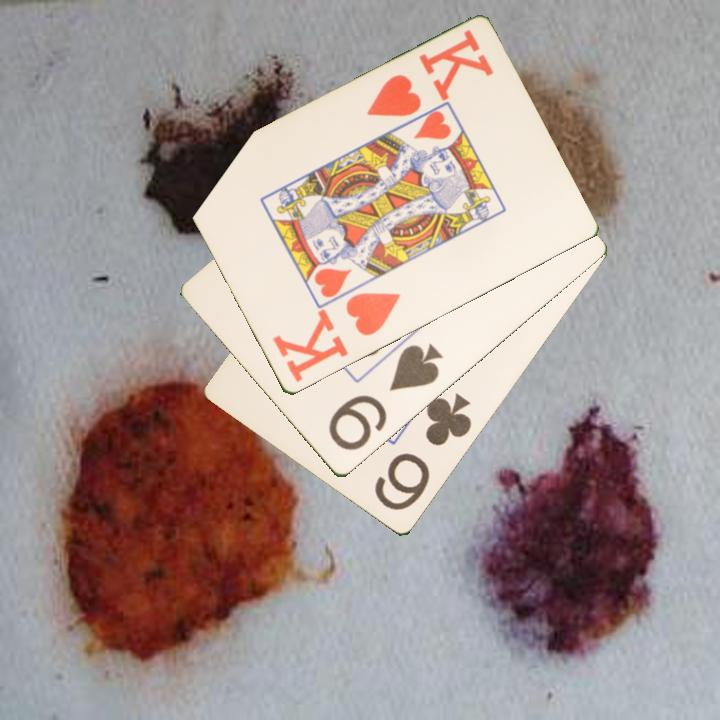6c: (370, 390, 475, 515)
9s: (324, 340, 447, 454)
Kh: (268, 289, 404, 387), (362, 26, 496, 121)
